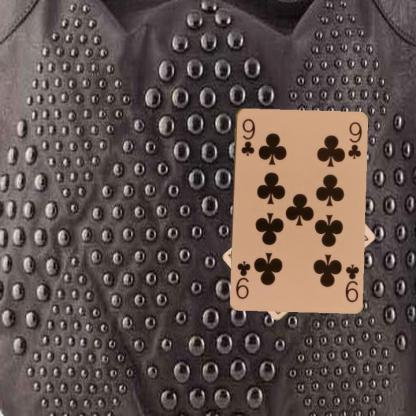9c: (238, 116, 257, 157), (342, 261, 360, 303)
